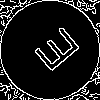E: (25, 25, 82, 80)
